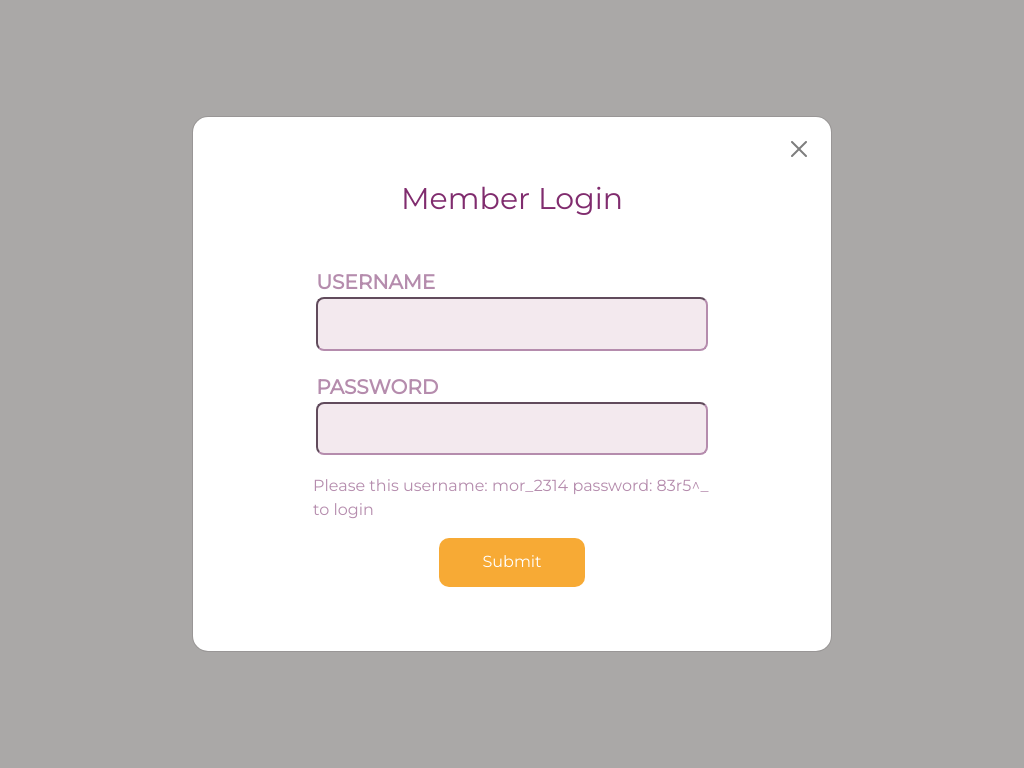
it: MemberLoginModal › 測試僅輸入 username 情況
In the field named "input-field-username": (512, 324) left=316, top=297, right=708, bottom=350, type "123"
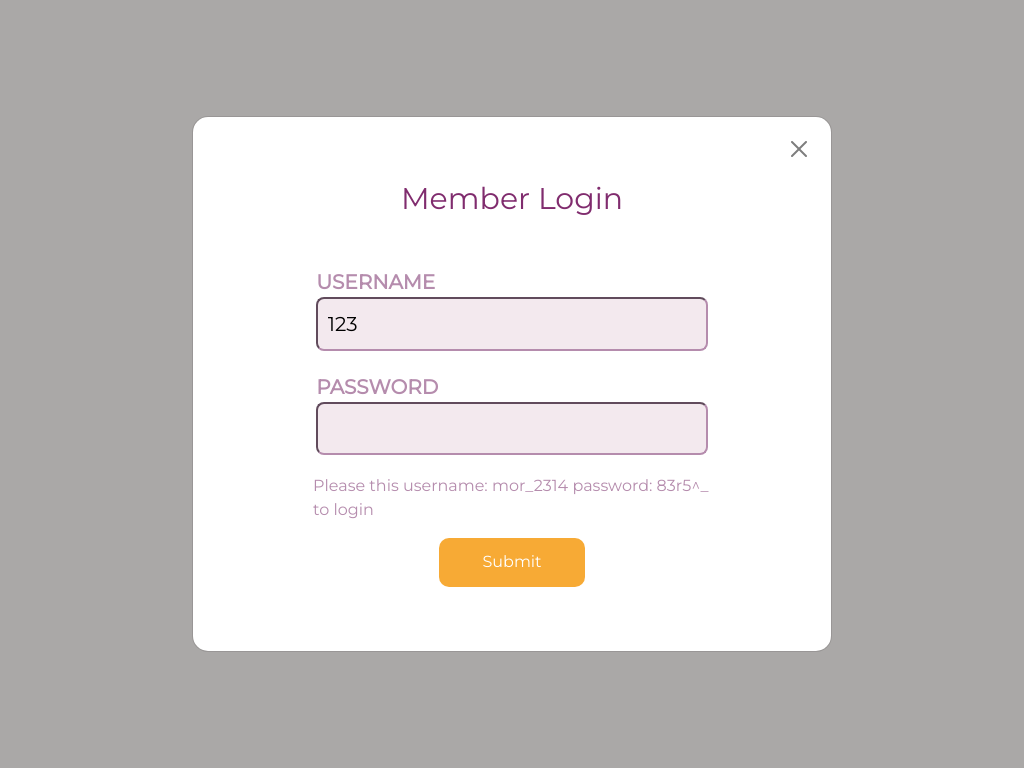
Click the button "Submit": (512, 562) left=439, top=538, right=585, bottom=587
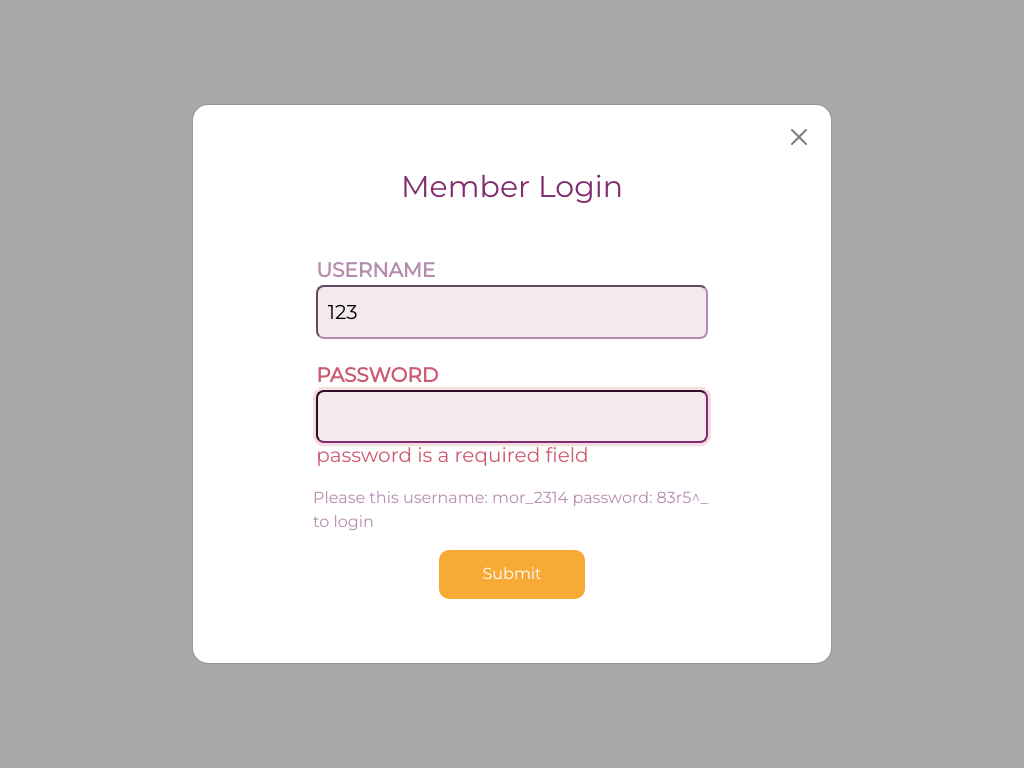
Check: the text named "input-error-password" reads "password is a required field", box left=316, top=444, right=589, bottom=468
